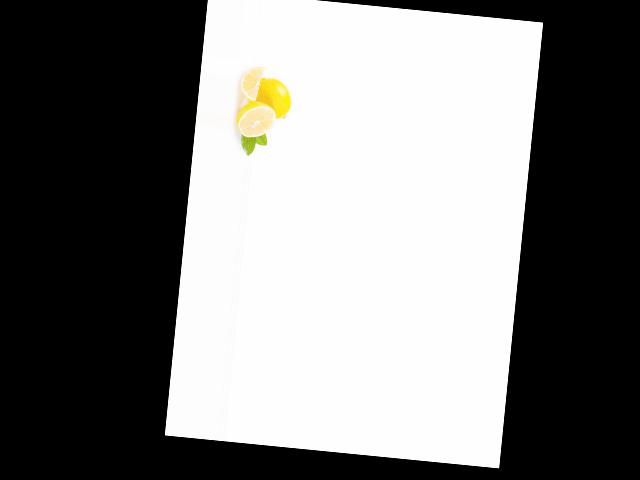lemon: (248, 74, 294, 122)
